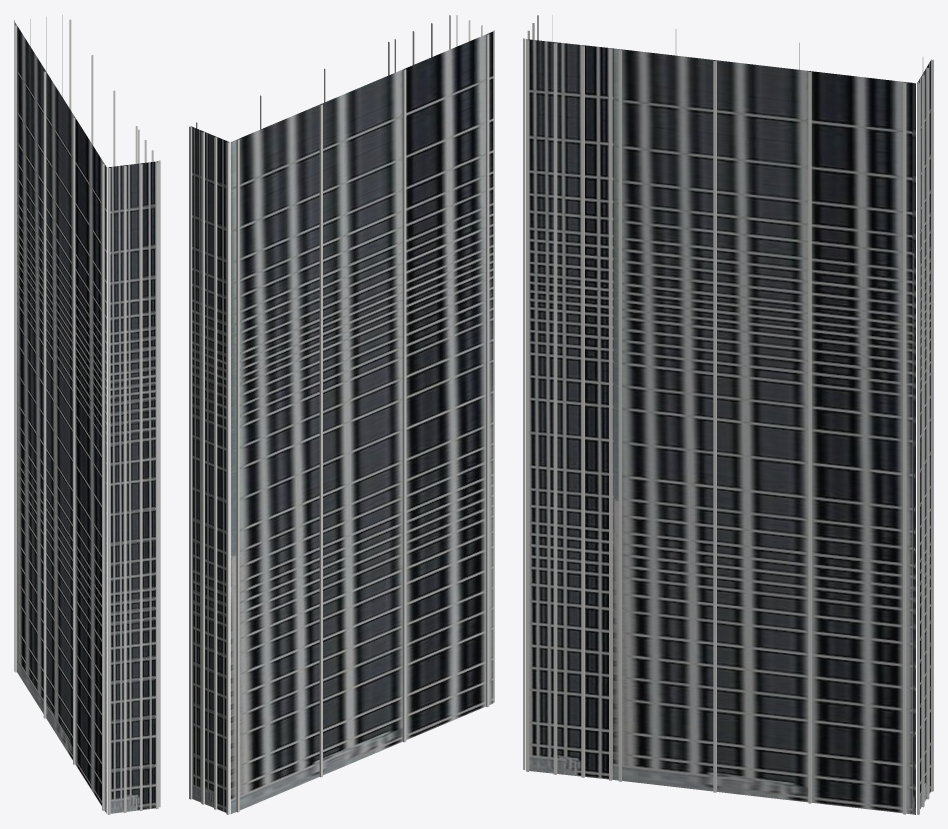
The picture shows the model from 3 angles, left to right: view 1: azimuth 30°, elevation 25°; view 2: azimuth 150°, elevation 25°; view 3: azimuth 270°, elevation 25°; orthographic projection. The views are drawn at different scales.
Visible parts, largest first — view 1: Surveyed facade, Projecting piers; view 2: Surveyed facade, Projecting piers; view 3: Surveyed facade, Projecting piers.
Part boxes in pixels (left/top/right/bottom): Surveyed facade: left=14, top=21, right=158, bottom=813; Projecting piers: left=14, top=15, right=160, bottom=814; Surveyed facade: left=190, top=31, right=493, bottom=813; Projecting piers: left=189, top=15, right=494, bottom=814; Surveyed facade: left=526, top=39, right=931, bottom=814; Projecting piers: left=523, top=15, right=933, bottom=814.
Size of the model in its own units: 36.21 by 178 by 90.62.
2 materials, 1 textured.
